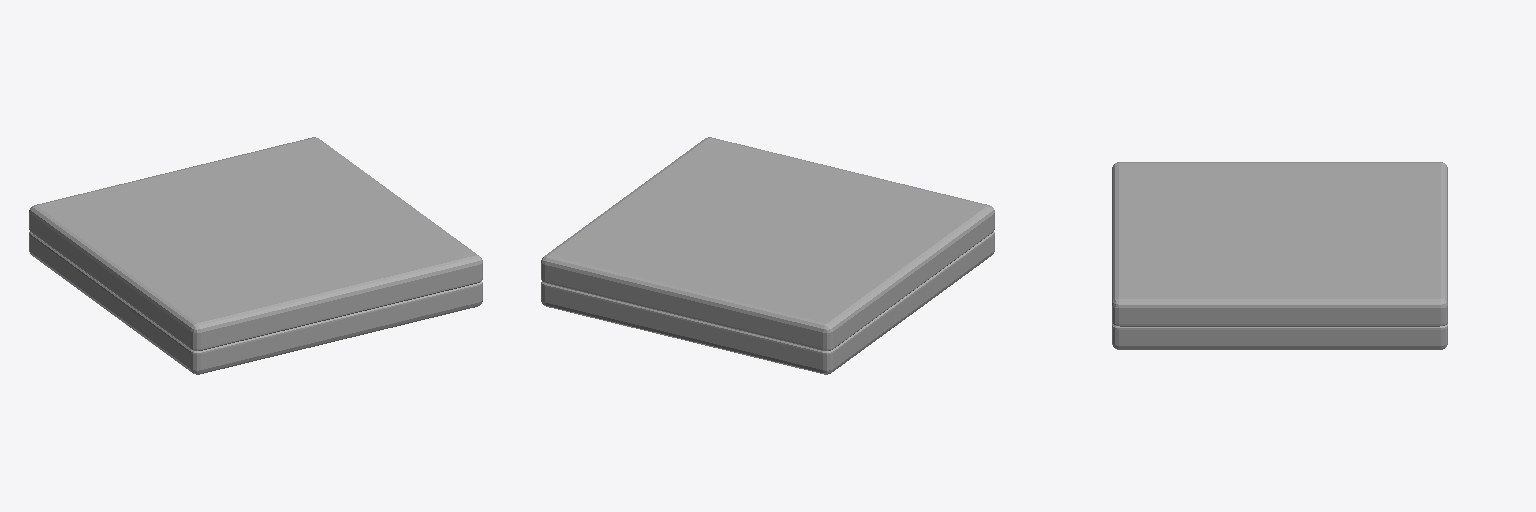
The model's file is tileLarge_neutral.obj.
3 views of the same model, side by side, from view 1: azimuth 30°, elevation 25°; view 2: azimuth 150°, elevation 25°; view 3: azimuth 270°, elevation 25° (orthographic).
Parts seen in each view (by area): view 1: tileLarge_neutral_Cube.006; view 2: tileLarge_neutral_Cube.006; view 3: tileLarge_neutral_Cube.006.
Boxes of the visible parts, x1,y1,x2,y2 form: tileLarge_neutral_Cube.006: [29, 137, 482, 374]; tileLarge_neutral_Cube.006: [541, 137, 994, 374]; tileLarge_neutral_Cube.006: [1112, 162, 1447, 349].
Size of the model in its own units: 6 by 1 by 6.